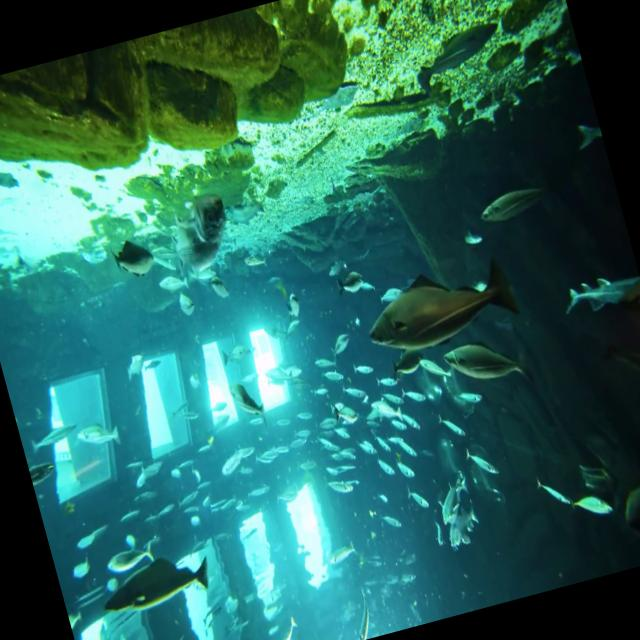fish: (356, 250, 520, 364), (96, 546, 213, 622), (160, 188, 240, 284), (471, 170, 567, 236), (444, 330, 533, 398), (558, 265, 640, 327), (109, 230, 160, 284), (226, 376, 272, 432), (73, 412, 123, 456), (568, 484, 616, 526)
